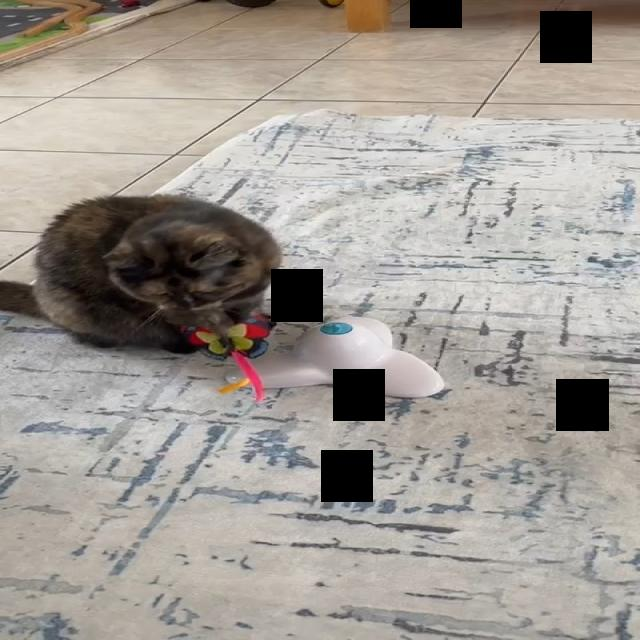authorized: (0, 193, 283, 355)
